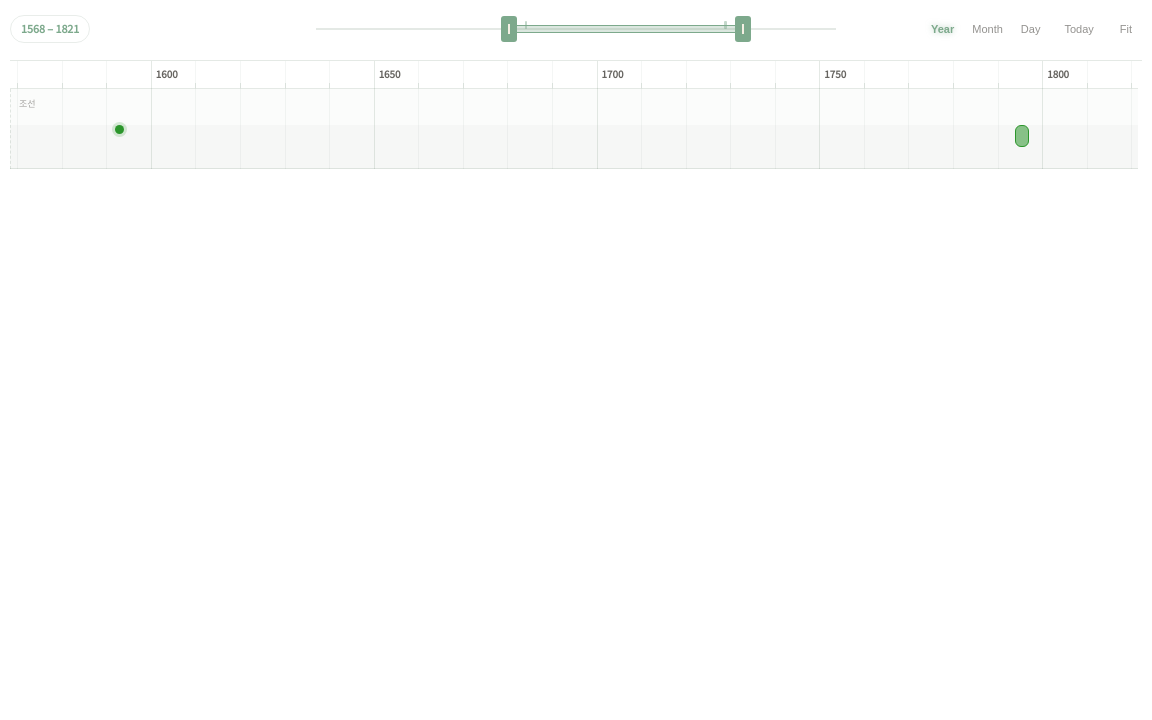
Test case: TimelineTab (static chronology) › surfaces the shared EraChips add control (기간 추가) on the Timeline tab itself
The image size is (1152, 720).
What coordinates should you click on to do the following:
click the button with test id "timeline-range-readout"
I would click on:
 (50, 29)
Its box is [10,15,90,43].
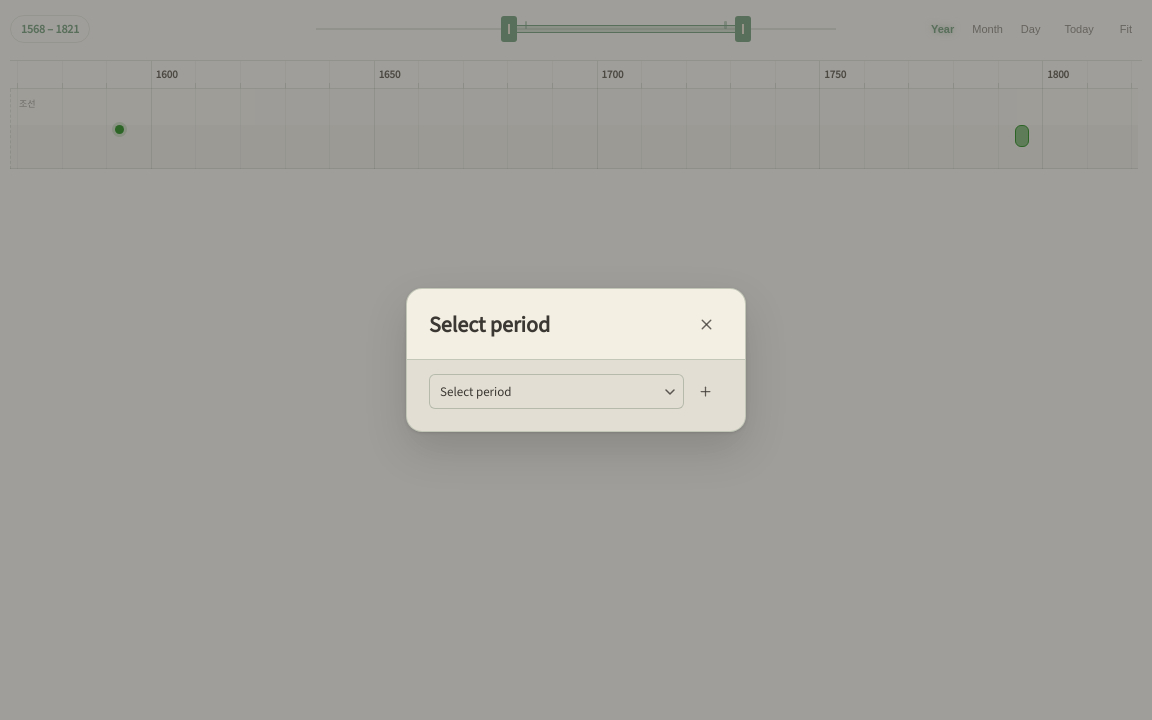
Expected: the button named "Add period" is shown, [688,374,723,409]
